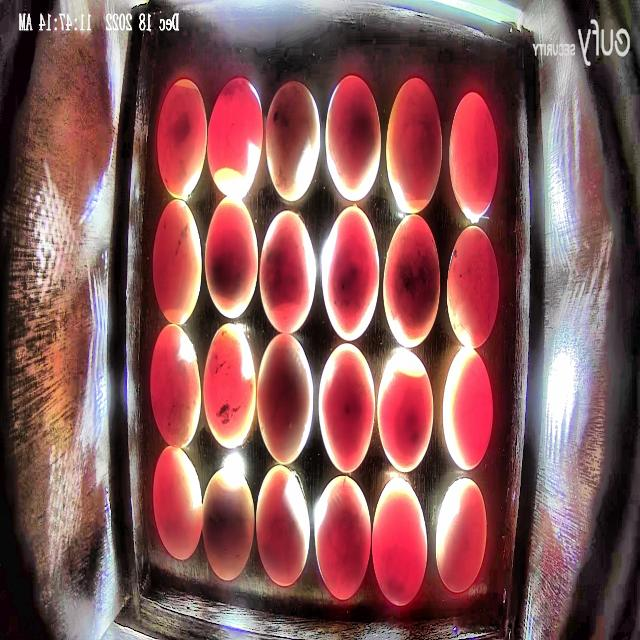FE: (321, 206, 379, 343), (383, 212, 441, 348), (386, 76, 443, 214), (318, 341, 375, 472), (372, 477, 429, 608), (257, 331, 313, 464), (314, 476, 372, 600), (325, 74, 381, 202), (264, 79, 322, 202), (259, 210, 316, 334), (377, 350, 434, 473), (203, 321, 256, 449), (204, 195, 259, 318), (150, 324, 203, 451), (207, 78, 263, 198), (449, 91, 499, 223), (256, 465, 310, 587), (442, 346, 494, 472), (447, 225, 500, 348), (434, 478, 488, 593), (154, 198, 202, 327), (158, 76, 207, 200), (202, 467, 255, 580), (153, 445, 203, 561)
